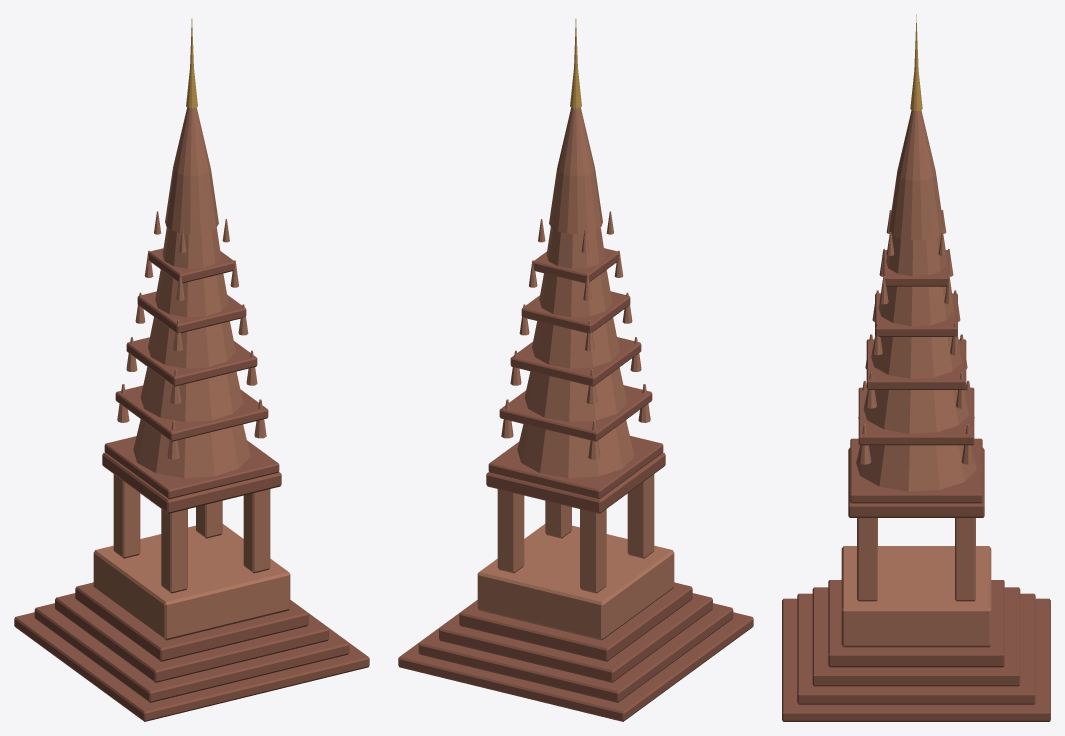
Rendered from independence-monument.glb.
3 renders of one model, left to right at view 1: azimuth 30°, elevation 25°; view 2: azimuth 150°, elevation 25°; view 3: azimuth 270°, elevation 25°, orthographic. The views are drawn at different scales.
Parts seen in each view (by area): view 1: Red-brown sandstone geometry, Weathered sandstone geometry; view 2: Red-brown sandstone geometry, Weathered sandstone geometry; view 3: Weathered sandstone geometry, Red-brown sandstone geometry, Finial bronze geometry.
Boxes of the visible parts, box(x1,y1,x2,y2) form: Red-brown sandstone geometry: box(93, 107, 290, 640); Weathered sandstone geometry: box(14, 248, 369, 721); Red-brown sandstone geometry: box(477, 107, 674, 640); Weathered sandstone geometry: box(398, 248, 753, 721); Weathered sandstone geometry: box(782, 250, 1050, 721); Red-brown sandstone geometry: box(841, 110, 991, 647); Finial bronze geometry: box(910, 14, 922, 111).
Bounding box in the file's own units: 9.52 × 25.47 × 9.52.
